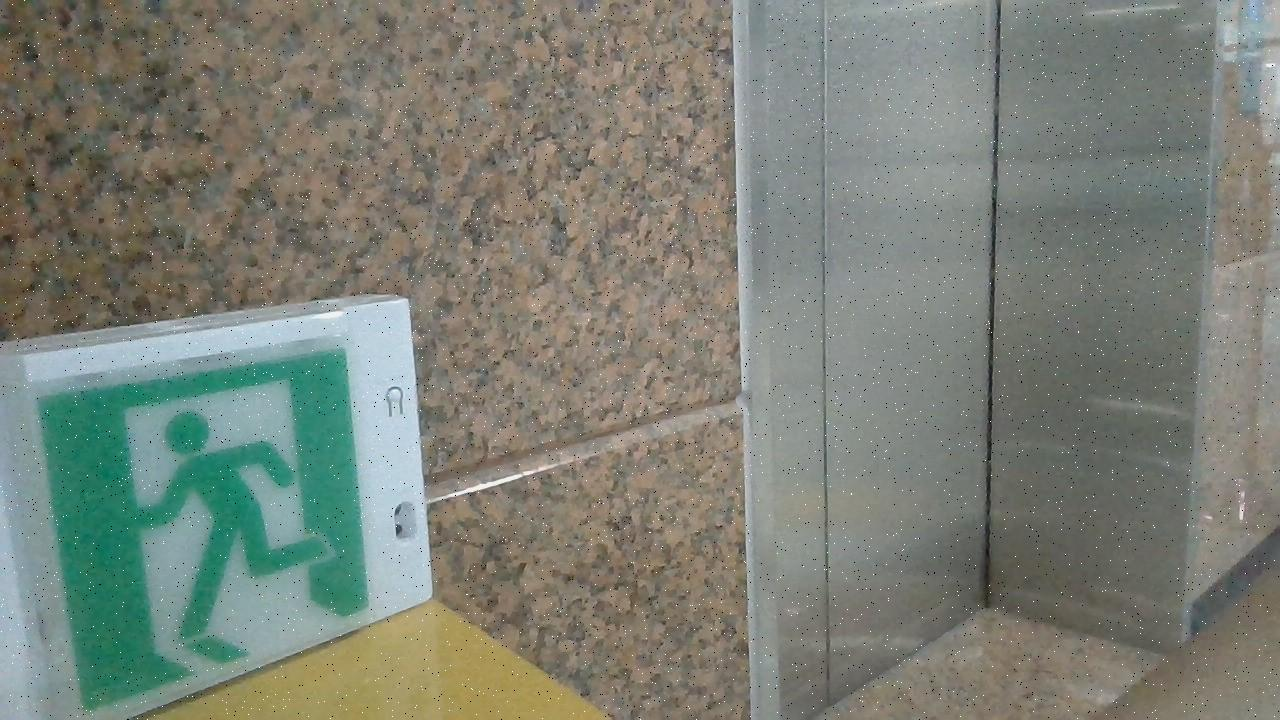emergency_exit: (2, 293, 435, 718)
